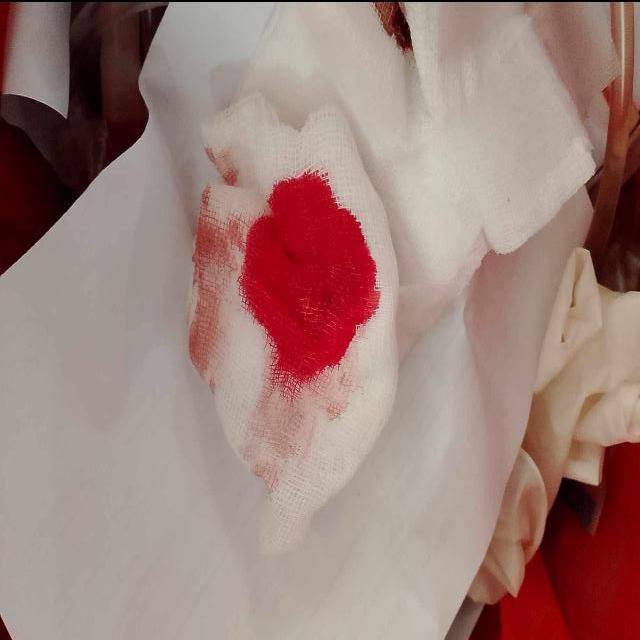General: (1, 2, 637, 637)
Infectious: (183, 89, 401, 553)
Sharps: (581, 1, 638, 262)
